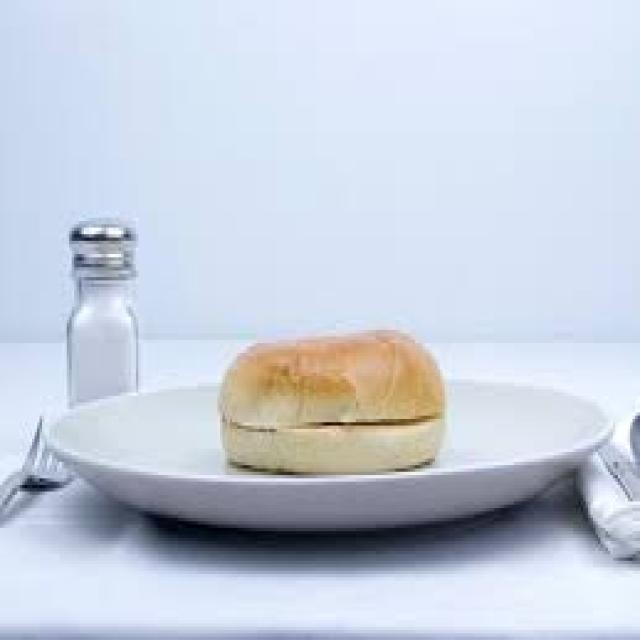Bagel: (219, 330, 445, 473)
